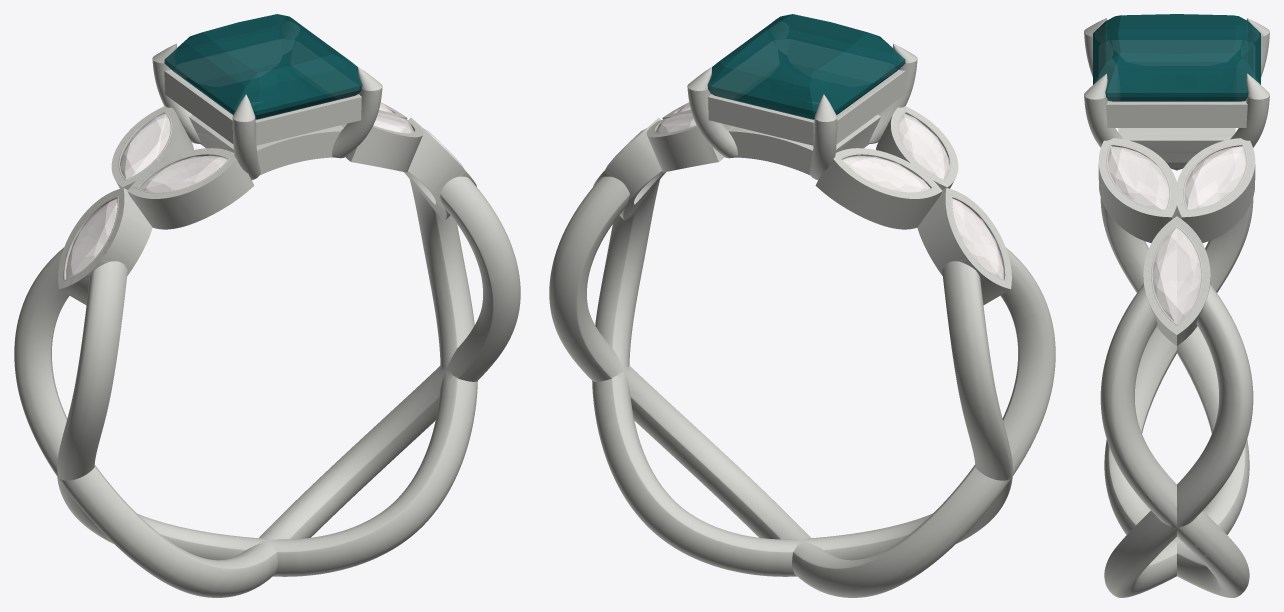
Rendered from ring_0721b4cc.glb.
3 views of the same model, side by side, from view 1: azimuth 30°, elevation 25°; view 2: azimuth 150°, elevation 25°; view 3: azimuth 270°, elevation 25° (orthographic).
Parts seen in each view (by area): view 1: Object_1_/White Gold-b46dab22-34ed-4666-af9c-908cd8a75324_0 (×2), Diamond_Radiant_/Alexandrite-181c75d8-8a9c-4731-8595-700a0ae, Diamond_Marquise, Diamond_Marquise_3, Diamond_Marquise_4; view 2: Object_1_/White Gold-b46dab22-34ed-4666-af9c-908cd8a75324_0 (×2), Diamond_Radiant_/Alexandrite-181c75d8-8a9c-4731-8595-700a0ae, Diamond_Marquise, Diamond_Marquise_4, Diamond_Marquise_3; view 3: Object_1_/White Gold-b46dab22-34ed-4666-af9c-908cd8a75324_0 (×2), Diamond_Radiant_/Alexandrite-181c75d8-8a9c-4731-8595-700a0ae, Diamond_Marquise_2, Diamond_Marquise_5, Diamond_Marquise_6.
Boxes of the visible parts, <box> form: Object_1_/White Gold-b46dab22-34ed-4666-af9c-908cd8a75324_0 (×2): <box>14,18,520,597</box>; Diamond_Radiant_/Alexandrite-181c75d8-8a9c-4731-8595-700a0ae: <box>164,14,362,119</box>; Diamond_Marquise: <box>66,198,117,279</box>; Diamond_Marquise_3: <box>120,113,170,179</box>; Diamond_Marquise_4: <box>139,155,227,192</box>; Object_1_/White Gold-b46dab22-34ed-4666-af9c-908cd8a75324_0 (×2): <box>549,18,1055,597</box>; Diamond_Radiant_/Alexandrite-181c75d8-8a9c-4731-8595-700a0ae: <box>707,14,905,119</box>; Diamond_Marquise: <box>952,198,1003,279</box>; Diamond_Marquise_4: <box>899,113,949,179</box>; Diamond_Marquise_3: <box>842,155,930,192</box>; Object_1_/White Gold-b46dab22-34ed-4666-af9c-908cd8a75324_0 (×2): <box>1084,18,1269,597</box>; Diamond_Radiant_/Alexandrite-181c75d8-8a9c-4731-8595-700a0ae: <box>1093,14,1260,101</box>; Diamond_Marquise_2: <box>1152,227,1201,323</box>; Diamond_Marquise_5: <box>1108,146,1169,209</box>; Diamond_Marquise_6: <box>1184,146,1245,209</box>.
Size of the model in its own units: 0.0203 by 0.0231 by 0.00721.
